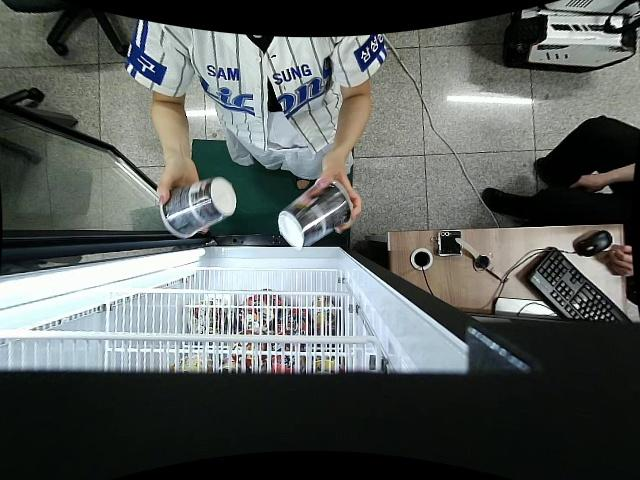00_hand: (312, 156, 365, 234), (159, 156, 202, 203)
08_buldak_S: (279, 175, 353, 250), (161, 174, 237, 238)
